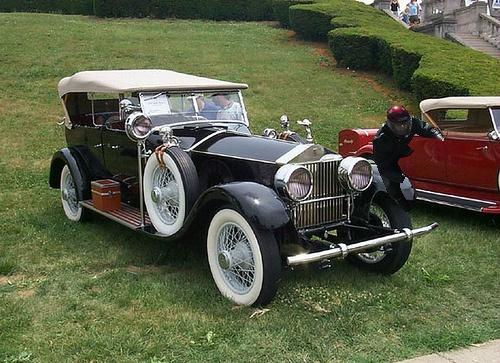tampered: (373, 106, 444, 212)
